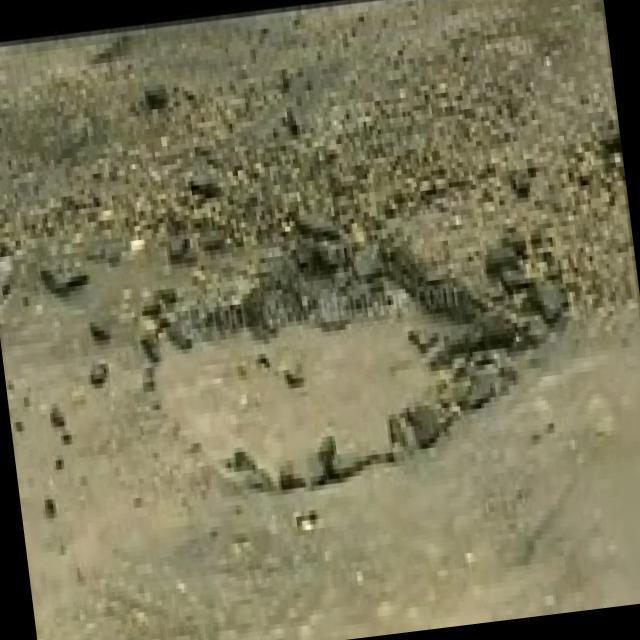Pothole: (77, 128, 524, 548)
